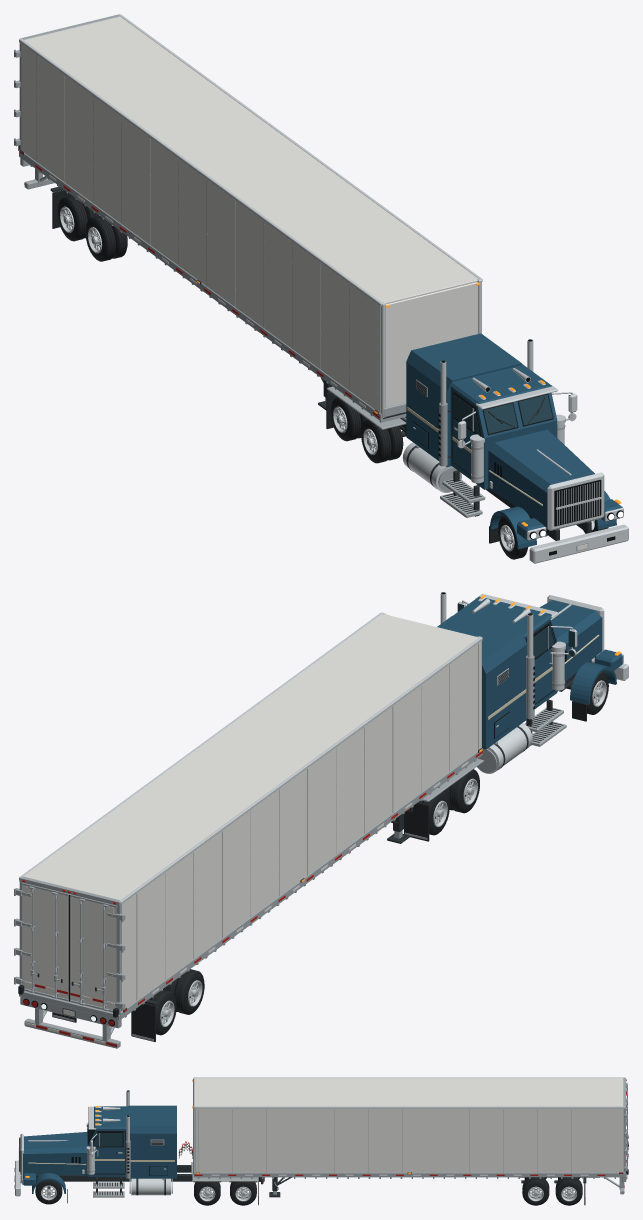
The model's file is 18-wheeler.fbx.
3 views of the same model, one above another, from view 1: azimuth 30°, elevation 25°; view 2: azimuth 150°, elevation 25°; view 3: azimuth 270°, elevation 25° (orthographic). The views are drawn at different scales.
Visible parts, largest first — view 1: Trailer_Shell_and_Cargo_Interior, Tractor_Cab_Hood_and_Sleeper, Tractor_Trim_Tanks_Fenders_and_Lights, Trailer_Chassis_Landing_Gear_and_Impact_Guard, Wheel_Trailer_Axle1_L_Outer, Wheel_Trailer_Axle2_L_Outer, Wheel_Tractor_Drive1_L_Outer, Wheel_Tractor_Drive2_L_Outer, Trailer_Rear_Frame_and_Lights; view 2: Trailer_Shell_and_Cargo_Interior, Tractor_Cab_Hood_and_Sleeper, Tractor_Trim_Tanks_Fenders_and_Lights, Rear_Door_R, Rear_Door_L, Trailer_Rear_Frame_and_Lights, Trailer_Chassis_Landing_Gear_and_Impact_Guard, Wheel_Trailer_Axle1_L_Outer, Wheel_Tractor_Drive1_L_Outer, Wheel_Trailer_Axle2_L_Outer, Wheel_Tractor_Drive2_L_Outer, Wheel_Tractor_Steer_L; view 3: Trailer_Shell_and_Cargo_Interior, Tractor_Cab_Hood_and_Sleeper, Tractor_Trim_Tanks_Fenders_and_Lights, Tractor_Chassis_and_Suspension, Trailer_Chassis_Landing_Gear_and_Impact_Guard, Wheel_Trailer_Axle1_R_Outer, Wheel_Trailer_Axle2_R_Outer, Wheel_Tractor_Drive2_R_Outer, Wheel_Tractor_Drive1_R_Outer, Wheel_Tractor_Steer_R, Trailer_Rear_Frame_and_Lights.
Part boxes in pixels (x1,y1,x2,y2): Trailer_Shell_and_Cargo_Interior: [19, 14, 482, 421]; Tractor_Cab_Hood_and_Sleeper: [406, 333, 594, 526]; Tractor_Trim_Tanks_Fenders_and_Lights: [326, 339, 628, 563]; Trailer_Chassis_Landing_Gear_and_Impact_Guard: [24, 165, 406, 422]; Wheel_Trailer_Axle1_L_Outer: [85, 216, 115, 261]; Wheel_Trailer_Axle2_L_Outer: [57, 195, 87, 241]; Wheel_Tractor_Drive1_L_Outer: [361, 419, 391, 463]; Wheel_Tractor_Drive2_L_Outer: [330, 397, 361, 441]; Trailer_Rear_Frame_and_Lights: [14, 14, 120, 166]; Trailer_Shell_and_Cargo_Interior: [19, 612, 482, 1019]; Tractor_Cab_Hood_and_Sleeper: [437, 596, 602, 749]; Tractor_Trim_Tanks_Fenders_and_Lights: [404, 592, 628, 841]; Rear_Door_R: [21, 882, 69, 1001]; Rear_Door_L: [69, 894, 117, 1012]; Trailer_Rear_Frame_and_Lights: [14, 876, 125, 1028]; Trailer_Chassis_Landing_Gear_and_Impact_Guard: [24, 760, 476, 1048]; Wheel_Trailer_Axle1_L_Outer: [174, 969, 204, 1014]; Wheel_Tractor_Drive1_L_Outer: [449, 769, 479, 813]; Wheel_Trailer_Axle2_L_Outer: [151, 989, 176, 1035]; Wheel_Tractor_Drive2_L_Outer: [422, 791, 449, 835]; Wheel_Tractor_Steer_L: [587, 671, 608, 714]; Trailer_Shell_and_Cargo_Interior: [192, 1077, 625, 1177]; Tractor_Cab_Hood_and_Sleeper: [23, 1105, 176, 1178]; Tractor_Trim_Tanks_Fenders_and_Lights: [14, 1090, 263, 1205]; Tractor_Chassis_and_Suspension: [36, 1162, 264, 1190]; Trailer_Chassis_Landing_Gear_and_Impact_Guard: [197, 1177, 624, 1205]; Wheel_Trailer_Axle1_R_Outer: [522, 1179, 549, 1205]; Wheel_Trailer_Axle2_R_Outer: [555, 1179, 582, 1205]; Wheel_Tractor_Drive2_R_Outer: [230, 1181, 256, 1205]; Wheel_Tractor_Drive1_R_Outer: [194, 1181, 220, 1205]; Wheel_Tractor_Steer_R: [35, 1180, 62, 1204]; Trailer_Rear_Frame_and_Lights: [622, 1077, 628, 1181].
Bounding box in the file's own units: 3.06 × 4.12 × 23.02.
